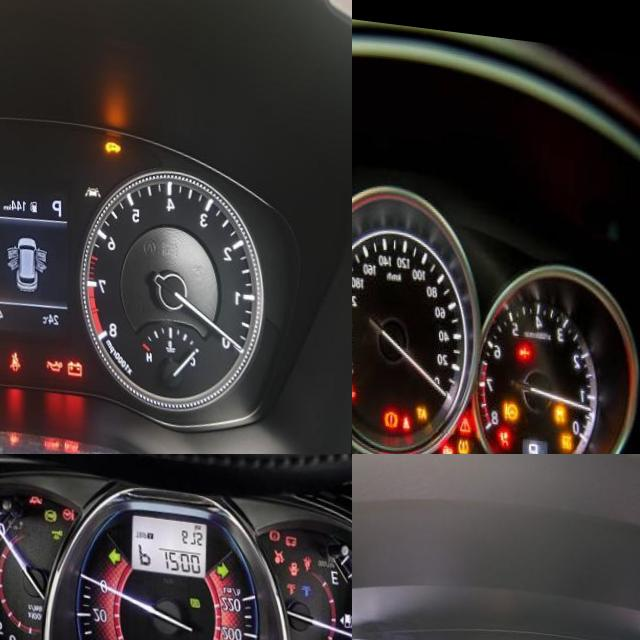Central Warning lamp: (459, 402, 475, 427)
Electronic Power Steering: (63, 501, 76, 516)
Engine cooling system: (352, 370, 361, 394)
High Engine Coolant Temperature: (287, 570, 298, 583)
LaneCenteringOff: (87, 175, 103, 188)
Seat Belt: (303, 543, 314, 559)
